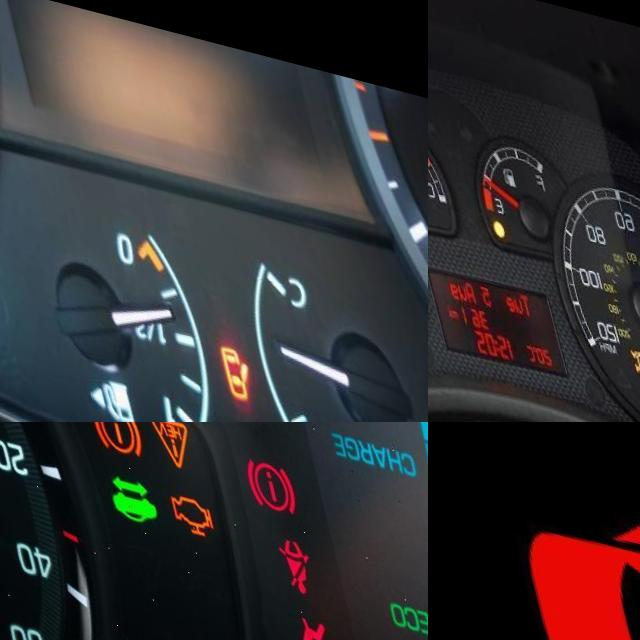Seat Belt: (257, 517, 300, 578)
